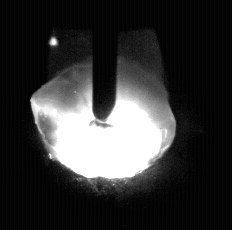arame: (93, 0, 118, 121)
poca: (37, 0, 176, 230)
